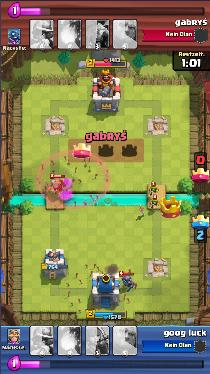ally_arrow: (35, 150, 110, 209)
enemy_arrow: (67, 263, 137, 314)
enemy_goblin: (149, 196, 161, 210), (146, 185, 160, 195)
enemy_knight: (44, 178, 66, 194)
enemy_mini_pekka: (121, 273, 134, 293)
